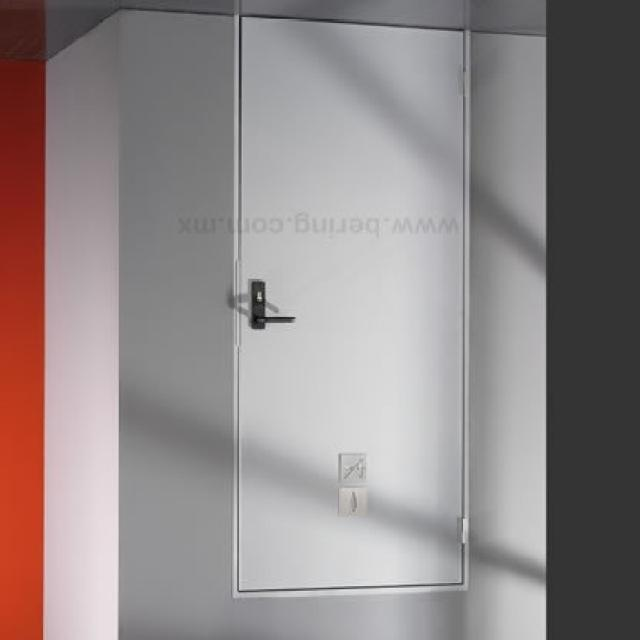door: (235, 15, 470, 598)
